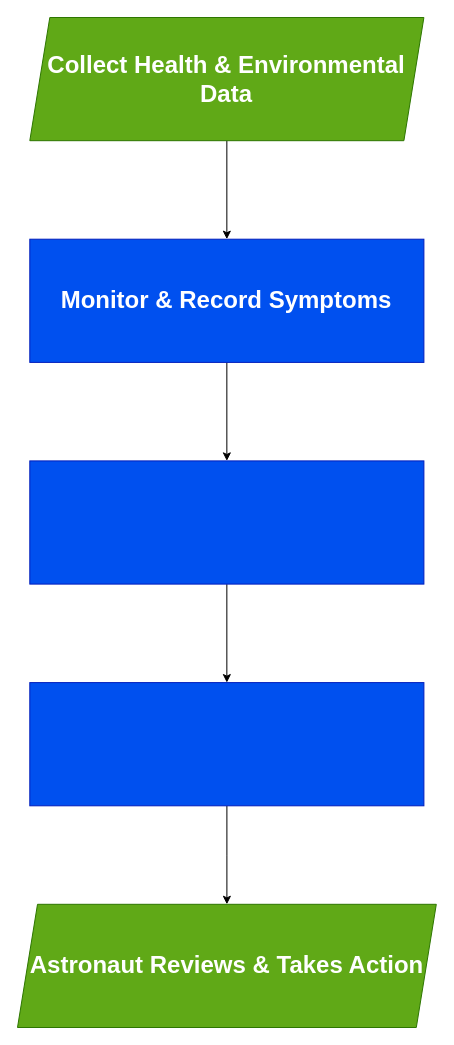
This 454x1045 diagram has some shape labels left out. The box of each missing label's shape, as (x1, y1, x2, y2) in pixels:
Analyze Trends & Exposure: (29, 460, 424, 584)
Generate Insights & Alerts: (29, 682, 424, 806)
